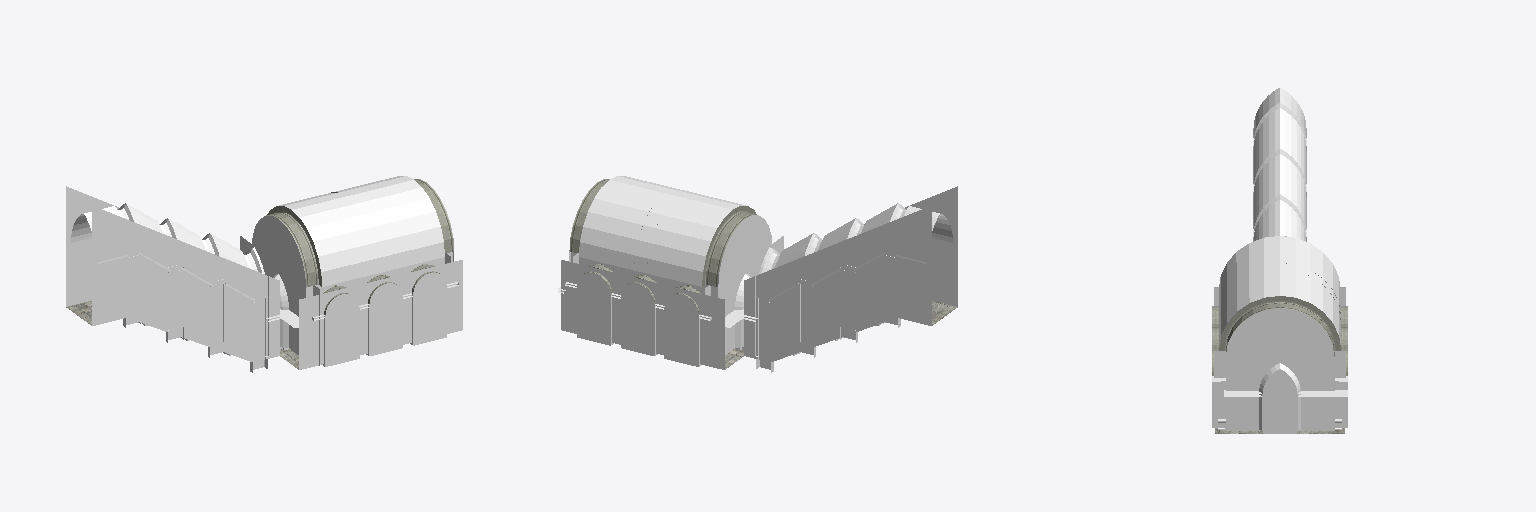
The picture shows the model from 3 angles: view 1: azimuth 30°, elevation 25°; view 2: azimuth 150°, elevation 25°; view 3: azimuth 270°, elevation 25°; orthographic projection.
Visible parts, largest first — view 1: mesh0, mesh8, mesh6, mesh10, mesh11; view 2: mesh0, mesh8, mesh6, mesh10, mesh11; view 3: mesh0, mesh8, mesh6, mesh10, mesh9.
Boxes of the visible parts, x1,y1,x2,y2 form: mesh0: [66, 186, 462, 369]; mesh8: [129, 176, 444, 356]; mesh6: [266, 179, 453, 314]; mesh10: [118, 203, 458, 355]; mesh11: [66, 301, 298, 369]; mesh0: [561, 186, 957, 369]; mesh8: [558, 176, 894, 356]; mesh6: [569, 179, 756, 314]; mesh10: [565, 203, 905, 355]; mesh11: [725, 301, 957, 369]; mesh0: [1212, 88, 1347, 433]; mesh8: [1219, 138, 1347, 396]; mesh6: [1212, 236, 1347, 375]; mesh10: [1212, 103, 1347, 383]; mesh9: [1259, 363, 1300, 430].
Size of the model in its own units: 29.42 by 16.42 by 9.83.
12 materials, 4 textured.